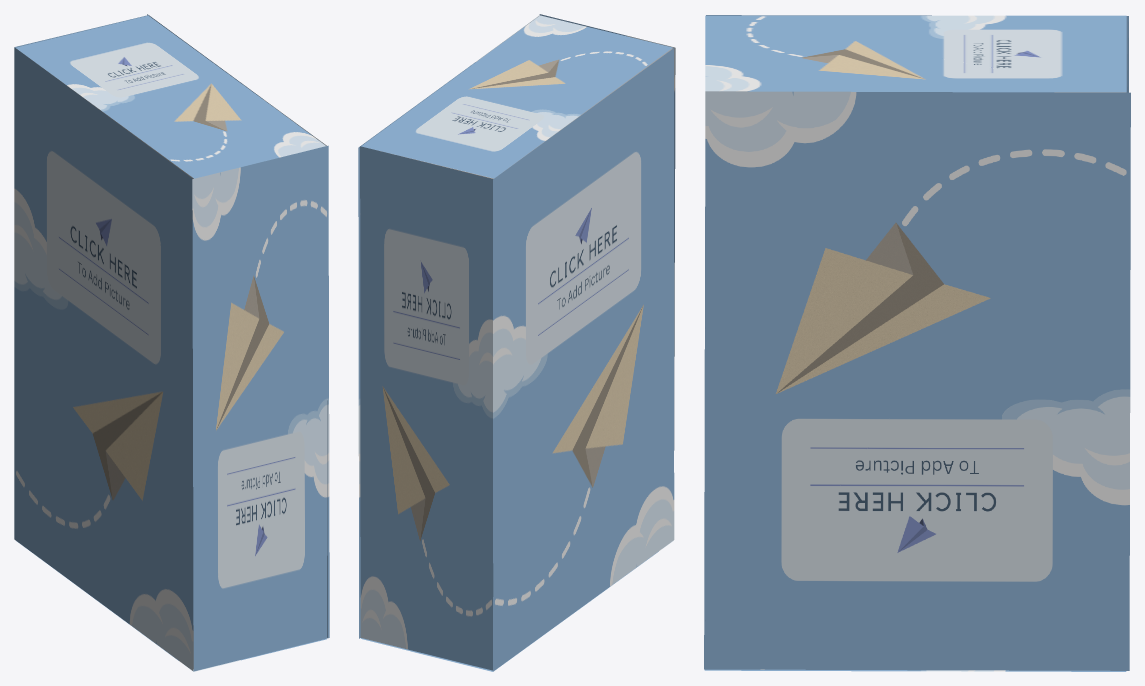
Rendered from product.glb.
The picture shows the model from 3 angles, left to right: view 1: azimuth 30°, elevation 25°; view 2: azimuth 150°, elevation 25°; view 3: azimuth 270°, elevation 25°; orthographic projection. The views are drawn at different scales.
Parts seen in each view (by area): view 1: bookcover.001, bookspine, booktop, bookcover; view 2: bookcover.001, bookspine.001, booktop, bookcover, bookspine; view 3: bookcover, booktop, bookbottom.
Part boxes in pixels (box(x1,y1,x2,y2)): bookcover.001: box(14, 47, 193, 670); bookspine: box(192, 145, 329, 671); booktop: box(15, 15, 325, 178); bookcover: box(147, 14, 327, 637); bookcover.001: box(493, 48, 674, 671); bookspine.001: box(360, 146, 493, 670); booktop: box(361, 15, 672, 178); bookcover: box(358, 15, 540, 638); bookspine: box(539, 14, 675, 450); bookcover: box(704, 91, 1130, 670); booktop: box(705, 15, 1126, 92); bookbottom: box(704, 669, 1126, 671).
Bounding box in the file's own units: 0.8088 × 2.78 × 1.85.
Materials: 3 (3 with a texture image).
